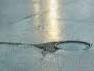crack: (0, 40, 36, 45)
pothole: (54, 40, 91, 50)
